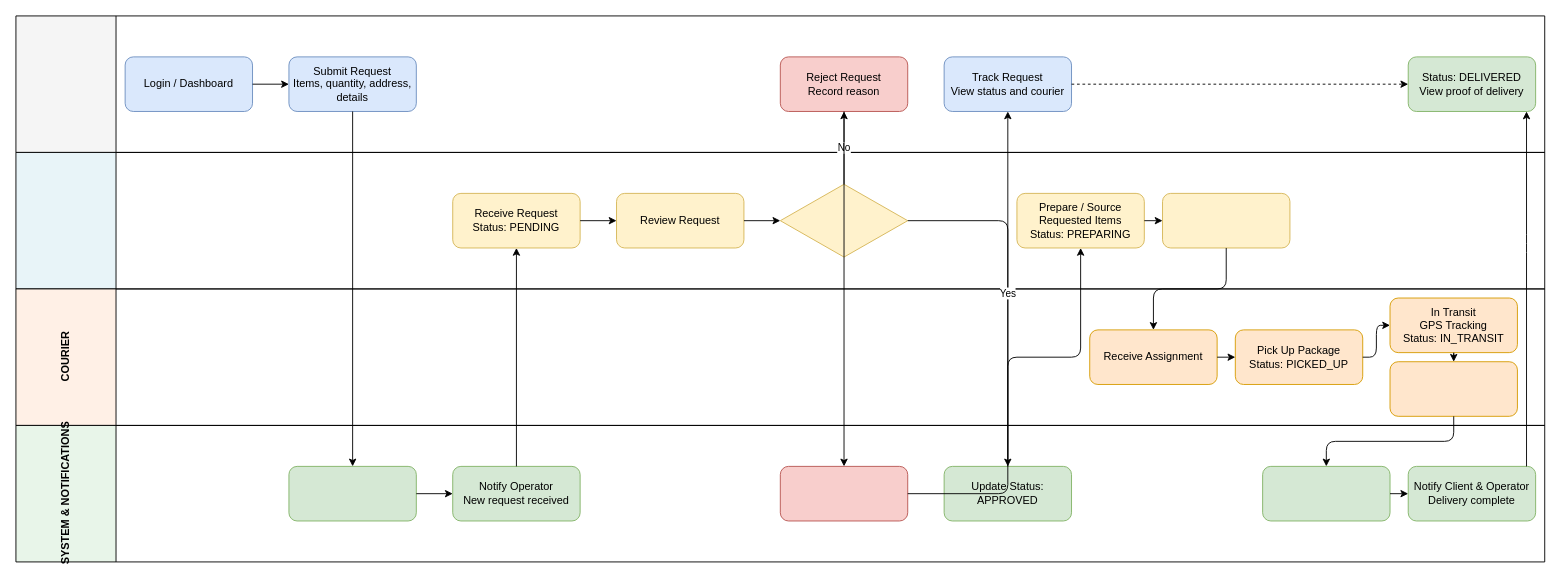
Some shapes in this 1561 by 581 pixel diagram are drawn without their labels. The box of each missing label's shape, as (x1, y1, x2, y2) in pixels:
Approve?: (779, 183, 908, 257)
Assign Delivery to Courier Status: ASSIGNED: (1162, 192, 1290, 248)
CLIENT: (15, 15, 1545, 152)
Create Request Status: PENDING: (288, 465, 416, 521)
Deliver to Client Capture recipient name, NIN, POD photo: (1389, 361, 1517, 416)
Notify Client Status: REJECTED: (779, 465, 908, 521)
OPERATOR: (15, 152, 1545, 289)
Record delivered_at Status: DELIVERED: (1262, 465, 1390, 521)
